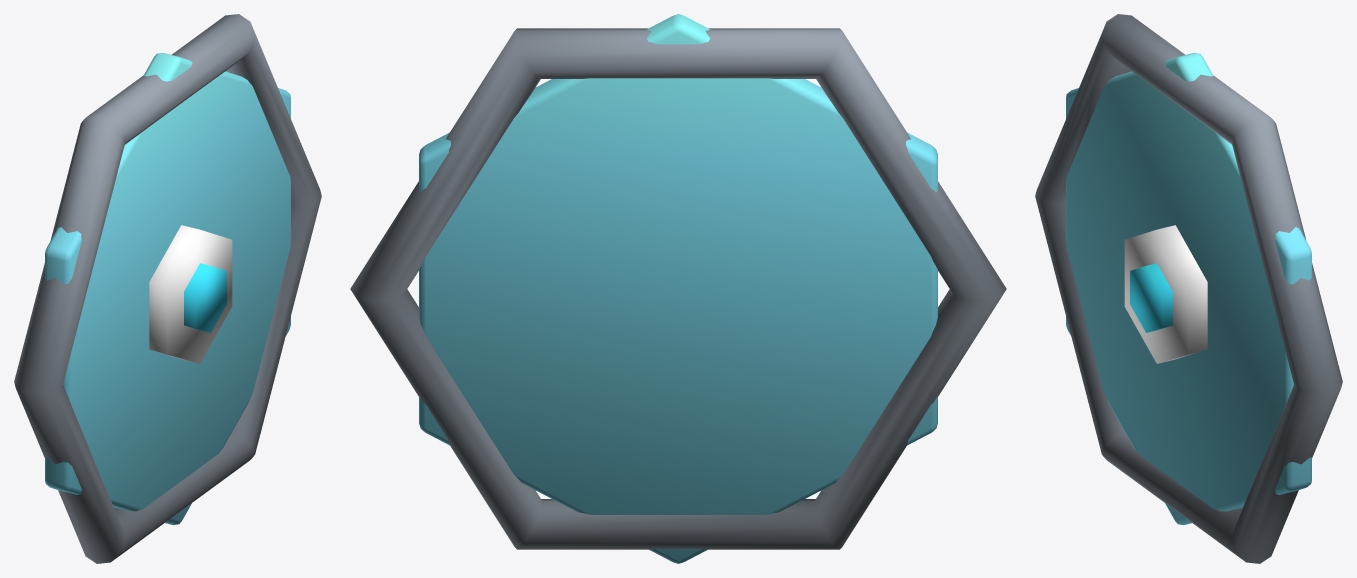
The model's file is escudo_energia.glb.
The picture shows the model from 3 angles, left to right: view 1: azimuth 30°, elevation 25°; view 2: azimuth 150°, elevation 25°; view 3: azimuth 270°, elevation 25°; orthographic projection. The views are drawn at different scales.
Visible parts, largest first — view 1: escudo_energia_fijo; view 2: escudo_energia_fijo; view 3: escudo_energia_fijo.
Part boxes in pixels (x1,y1,x2,y2): escudo_energia_fijo: (14, 14, 321, 563); escudo_energia_fijo: (350, 14, 1006, 563); escudo_energia_fijo: (1035, 14, 1342, 563).
Size of the model in its own units: 0.807 by 0.8348 by 0.4983.
Materials: 2 (2 with a texture image).
